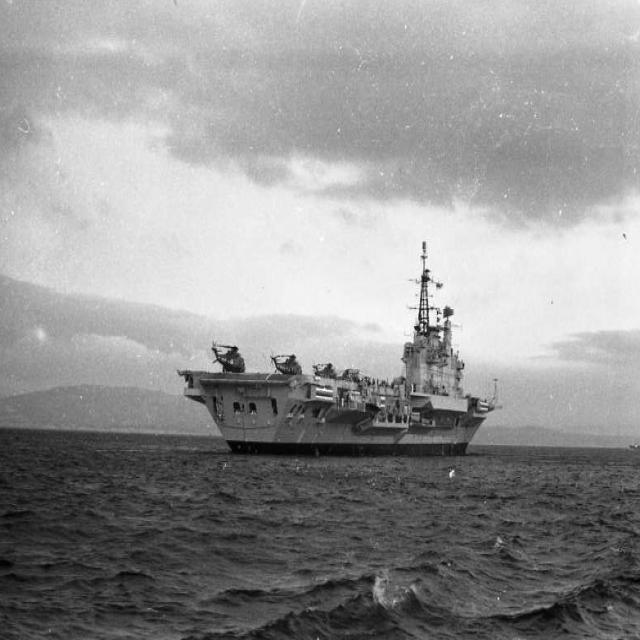Portanaves: (177, 238, 508, 458)
